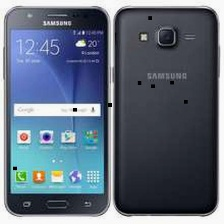phone: (0, 0, 113, 220), (110, 1, 223, 219)
